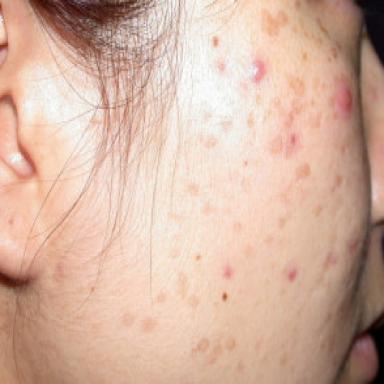acne: (335, 83, 353, 115), (253, 60, 266, 83), (287, 134, 295, 149), (217, 60, 226, 73), (288, 268, 297, 280), (223, 266, 232, 278)
